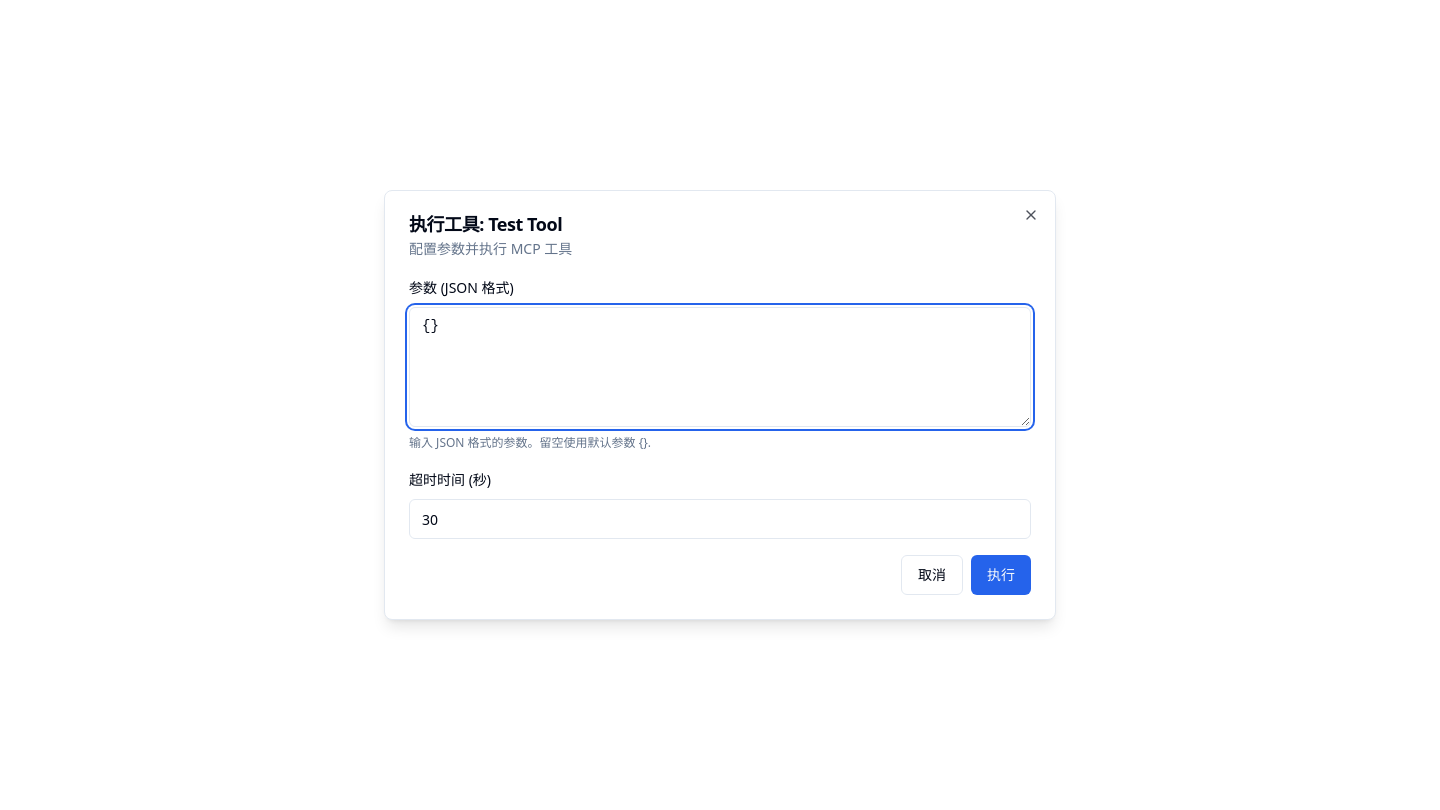
Test: ExecutionModal › should display error message on failure
Click the button "执行".
click(1001, 575)  # box [971,555,1031,595]
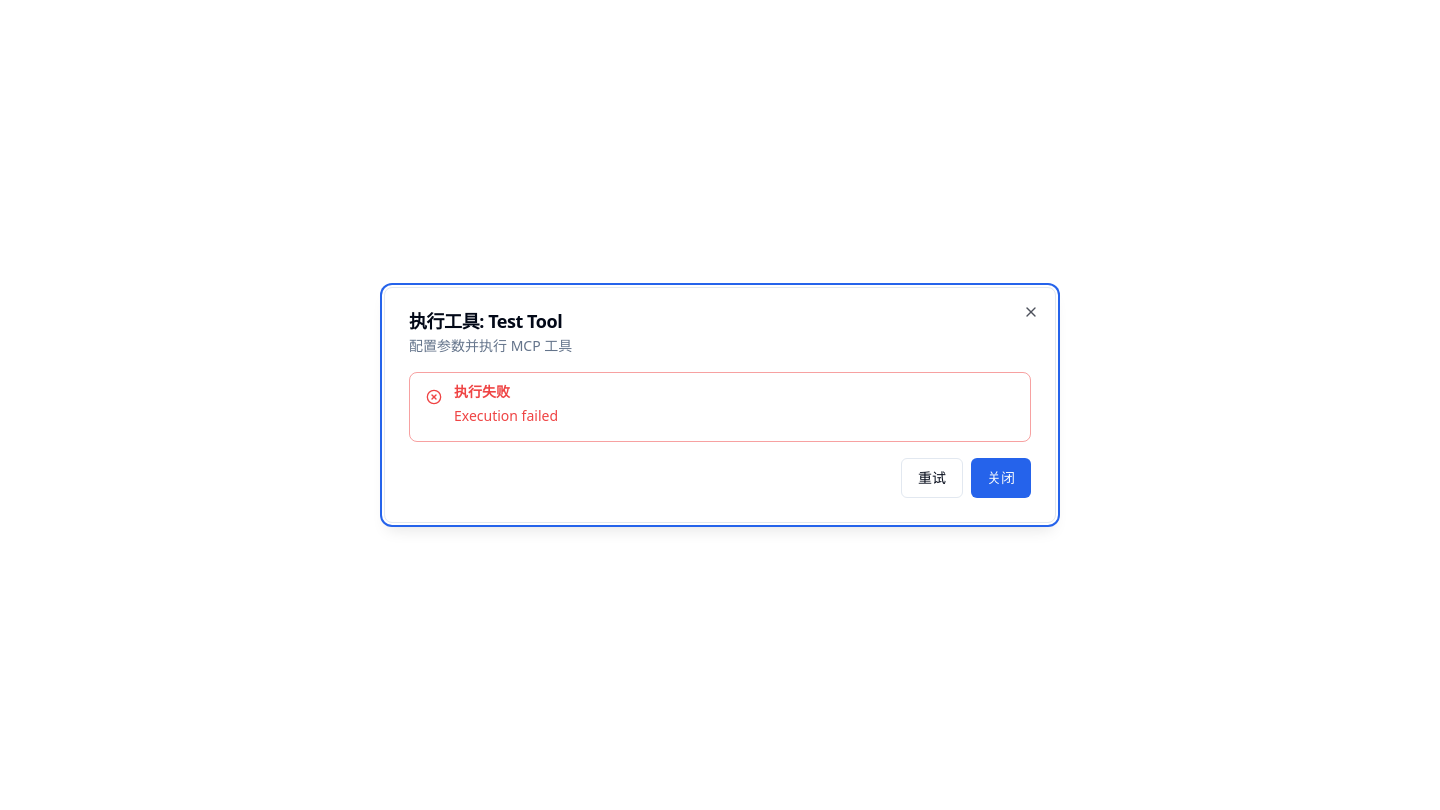
Expected: the text "执行失败" is shown, [454,382,510,401]
Expected: the text "Execution failed" is shown, [454,406,558,425]
